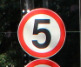speed_limit_5: (17, 8, 66, 58)
